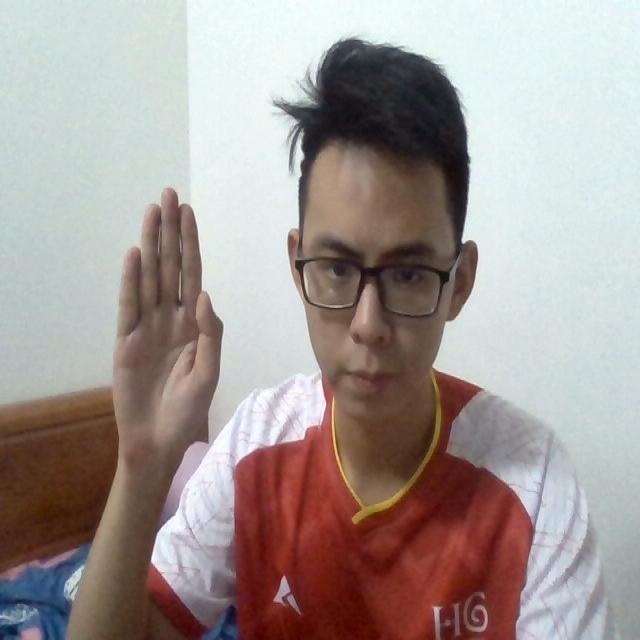B: (110, 183, 228, 472)
